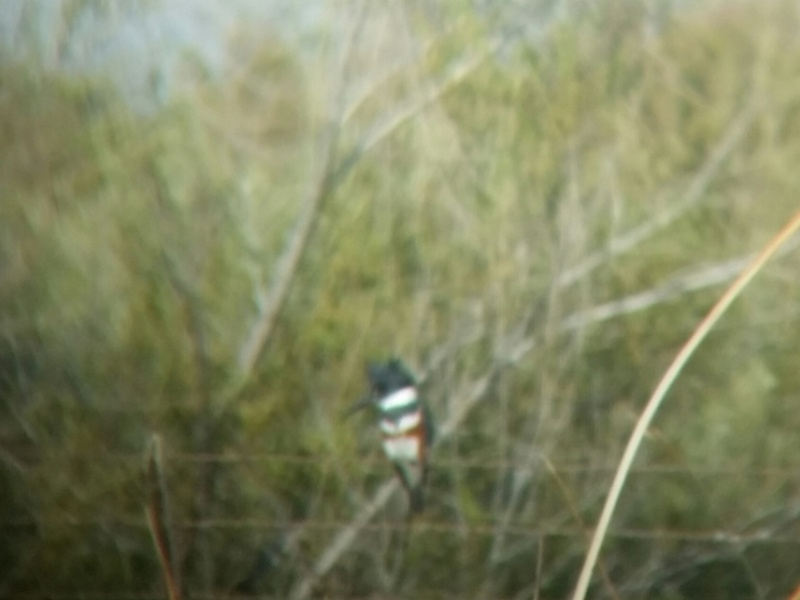kingfisher: (350, 355, 433, 515)
